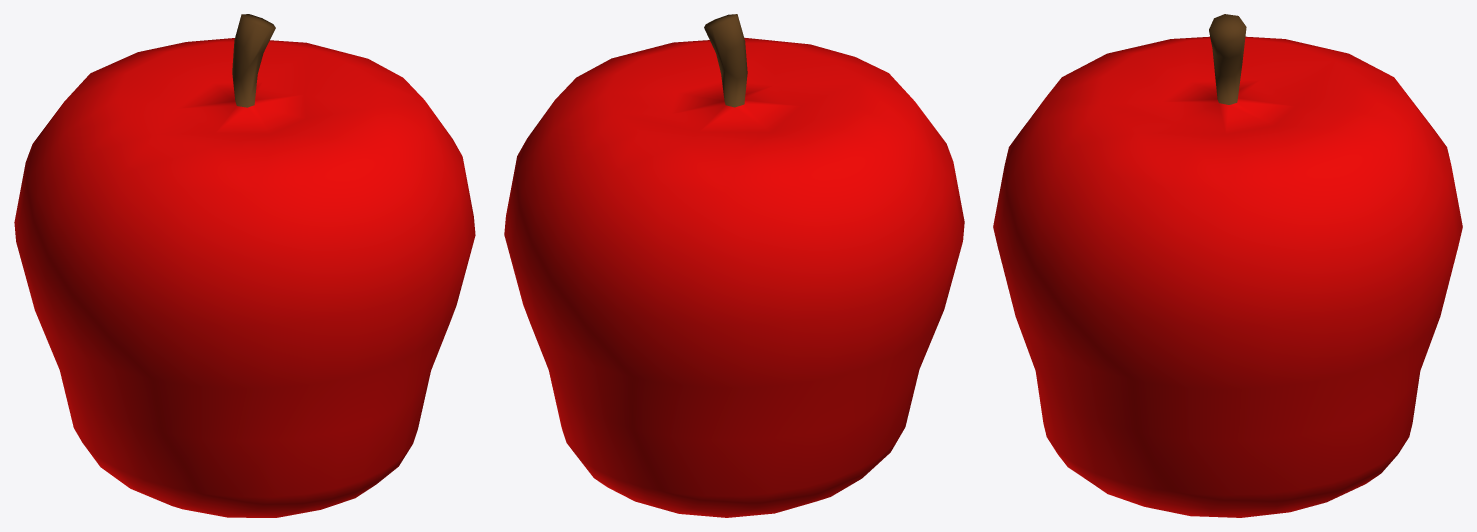
Rendered from Apple.fbx.
The picture shows the model from 3 angles, left to right: view 1: azimuth 30°, elevation 25°; view 2: azimuth 150°, elevation 25°; view 3: azimuth 270°, elevation 25°; orthographic projection.
Visible parts, largest first — view 1: Apple; view 2: Apple; view 3: Apple.
Part boxes in pixels (x1,y1,x2,y2): Apple: (14, 14, 475, 517); Apple: (504, 14, 964, 517); Apple: (993, 14, 1462, 517).
Bounding box in the file's own units: 1.39 × 1.53 × 1.39.
